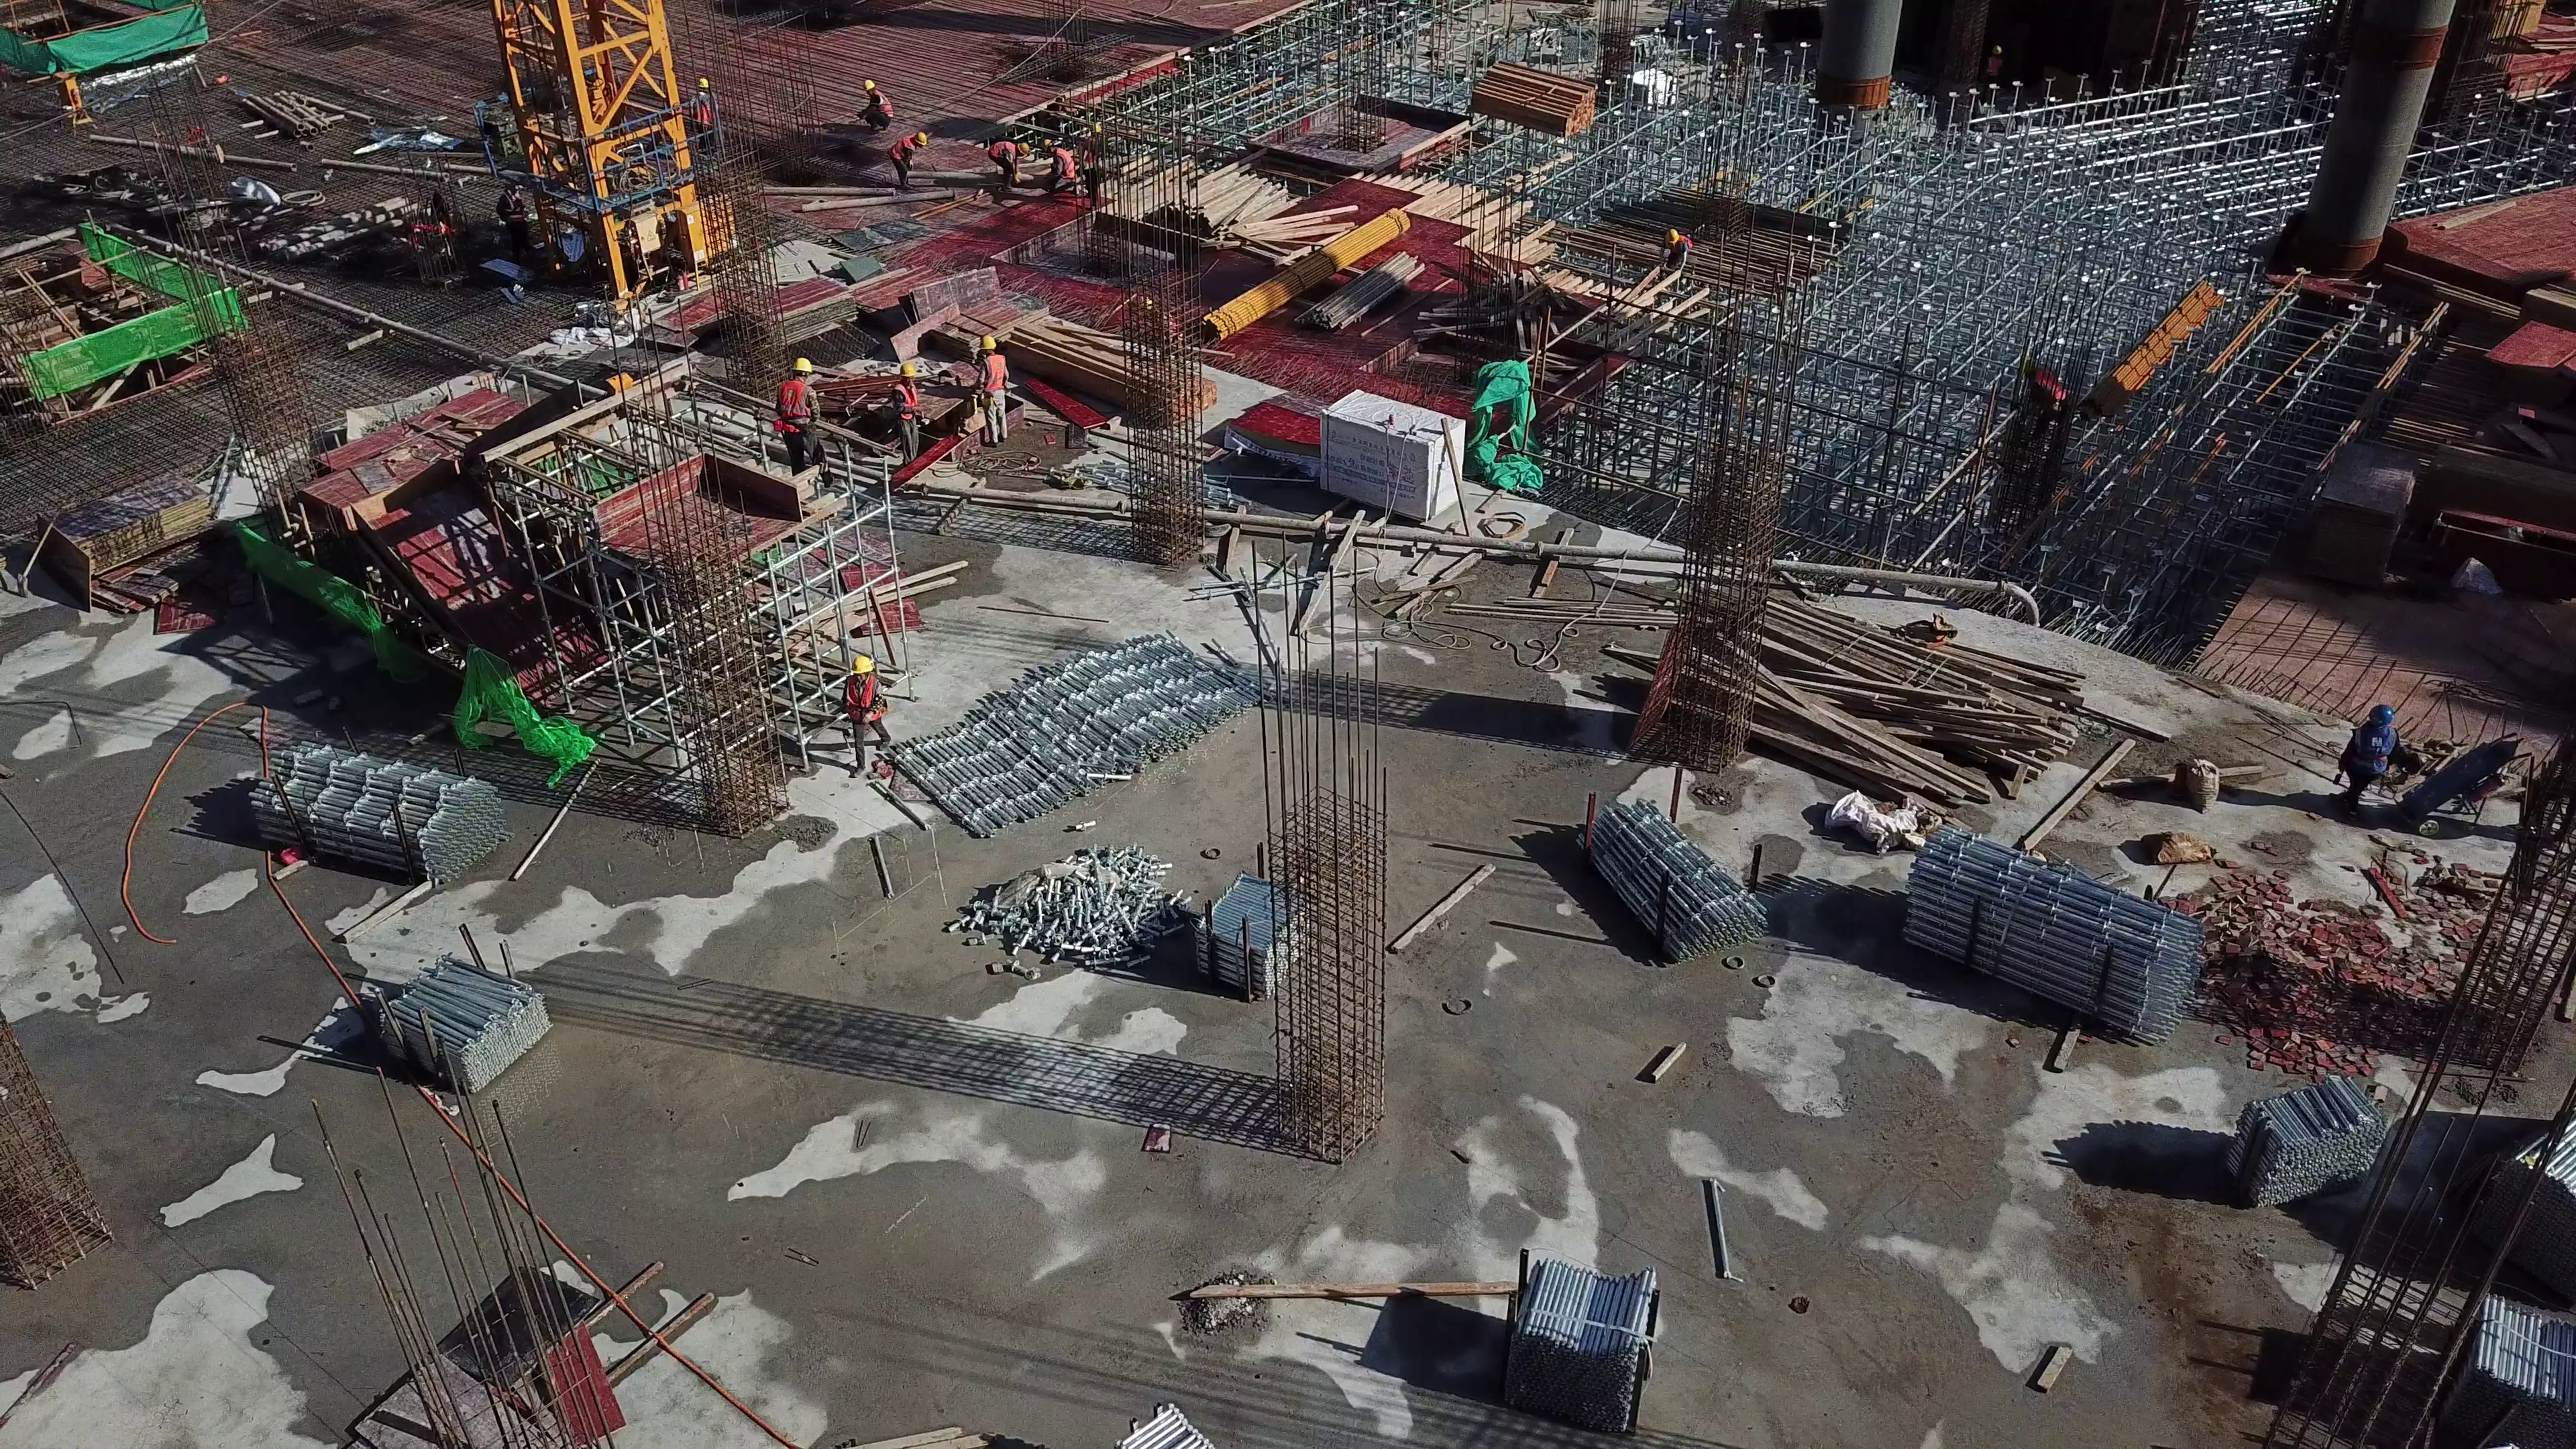helmet: (2365, 704, 2396, 727), (850, 659, 875, 676), (785, 358, 810, 374), (977, 334, 1000, 352), (898, 362, 919, 380), (914, 129, 927, 146), (1016, 142, 1032, 156), (859, 79, 875, 92), (694, 78, 711, 87)
person: (2332, 700, 2410, 820), (773, 356, 831, 498), (841, 657, 889, 777), (977, 337, 1015, 448), (2018, 357, 2072, 435), (892, 364, 920, 467), (987, 136, 1030, 194), (857, 80, 898, 136), (888, 130, 928, 189), (1654, 223, 1696, 275), (1042, 136, 1075, 201), (689, 78, 718, 146), (1079, 133, 1100, 213)
vest: (2347, 726, 2397, 788), (775, 378, 812, 429), (848, 678, 877, 722), (982, 355, 1009, 396), (896, 383, 921, 419), (1059, 152, 1083, 186), (888, 132, 912, 164), (697, 99, 718, 133), (983, 140, 1014, 162), (871, 92, 893, 119)
